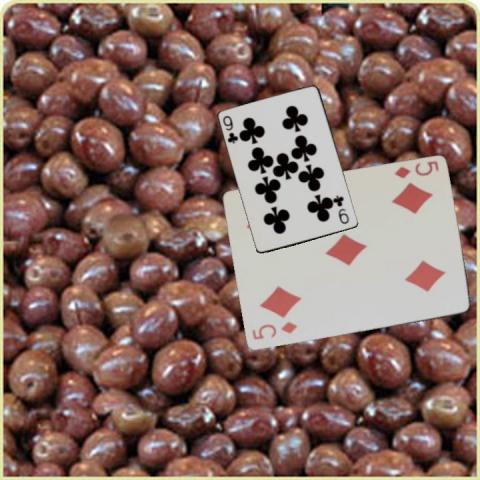5d: (248, 319, 299, 341), (391, 158, 440, 180)
9c: (220, 112, 240, 144), (332, 193, 350, 225)
